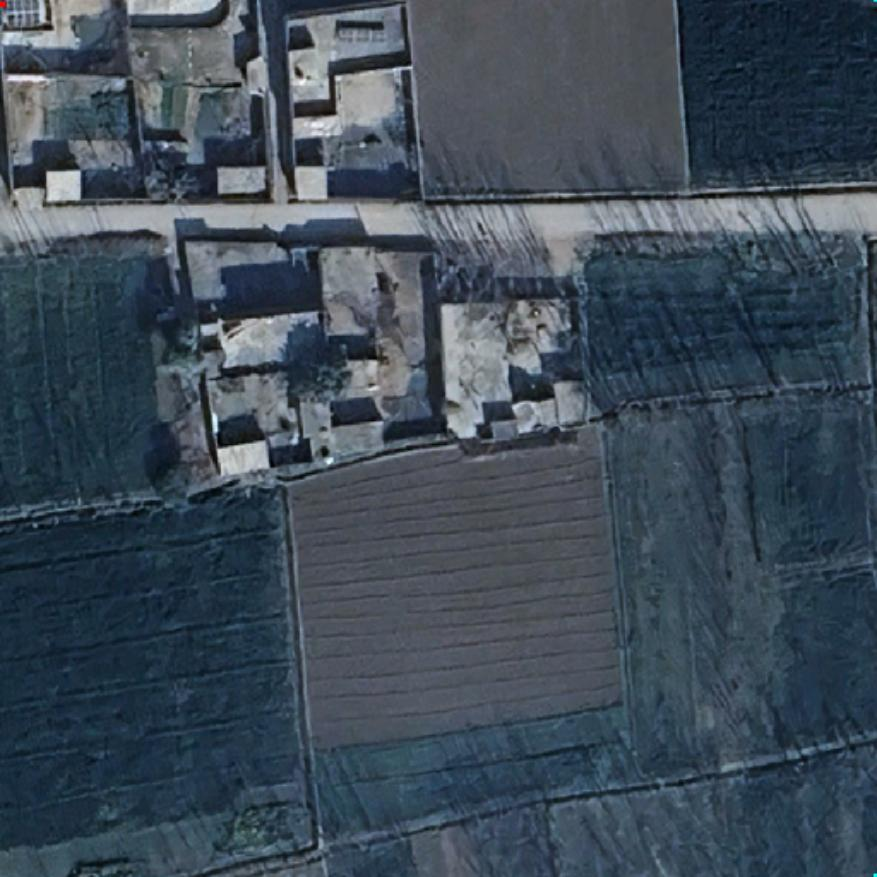Solarpanel: (1, 0, 45, 32), (339, 22, 400, 43)
